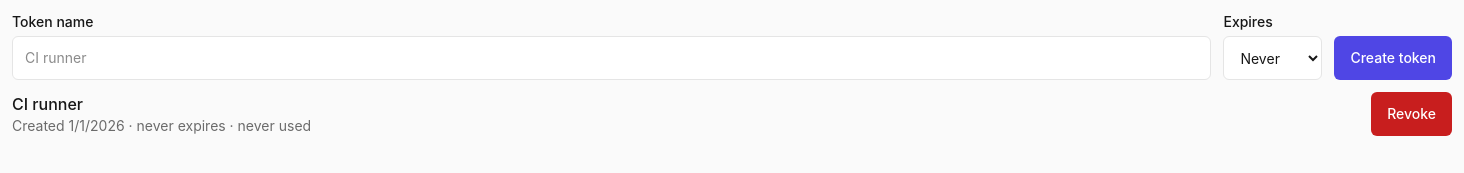
Test: PersonalAccessTokens › reports a create failure without touching the list or showing a secret
The width and height of the screenshot is (1464, 173).
Expected: the text "CI runner" is shown, left=12, top=92, right=83, bottom=116
Step 1. Type "Second" into the field labelled "Token name" → {"x": 612, "y": 58}, box left=12, top=36, right=1211, bottom=80
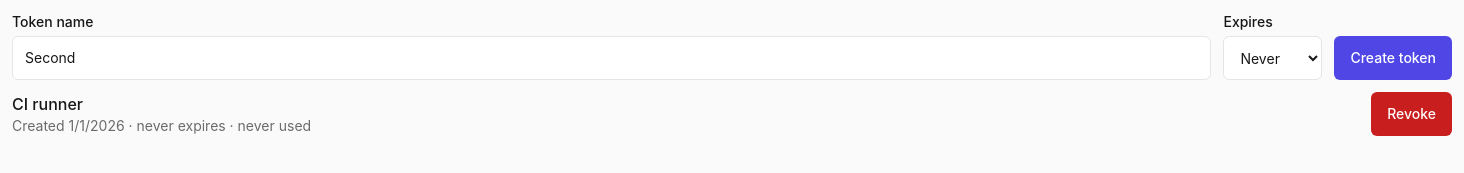
Step 2. Click the button "Create token" → {"x": 1393, "y": 58}, box left=1334, top=36, right=1452, bottom=80
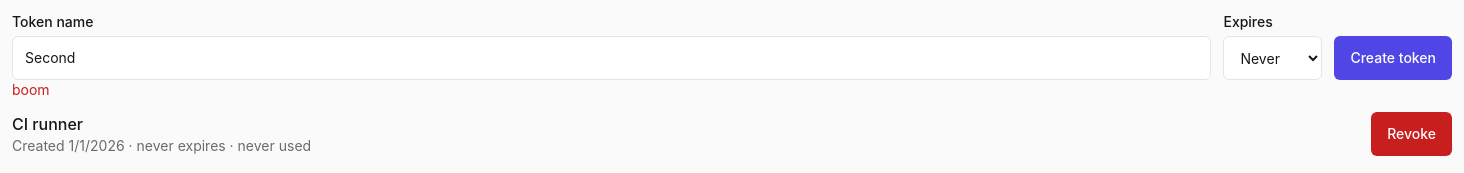
Expected: the text "CI runner" is shown, left=12, top=112, right=83, bottom=136
Now the message reads "boom", box left=12, top=81, right=50, bottom=98
